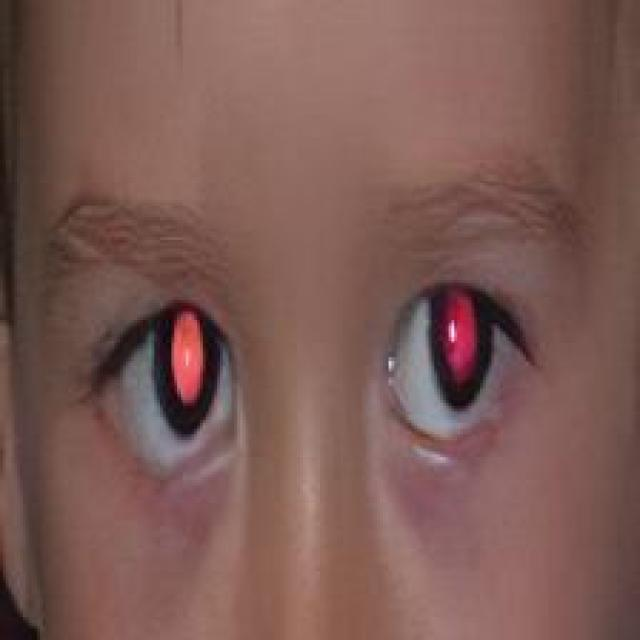reflexo-normal: (372, 275, 552, 470), (100, 280, 264, 466)
